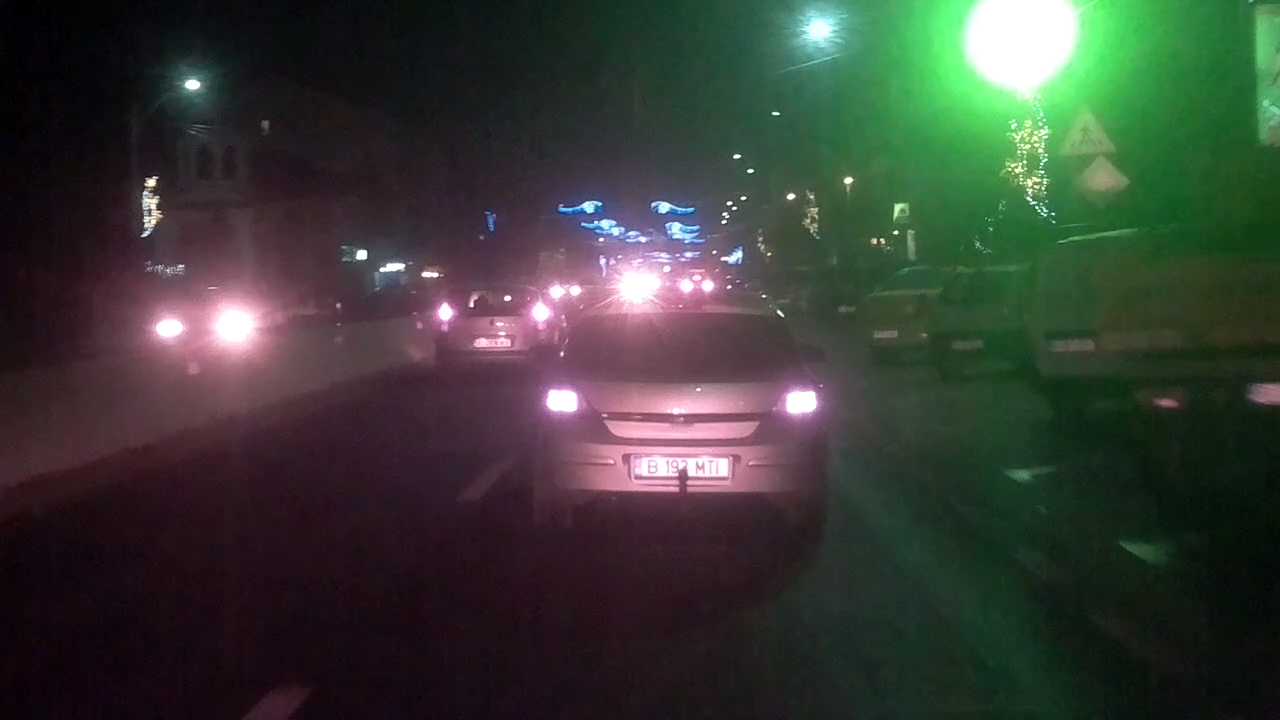license-plate: (626, 452, 734, 483)
